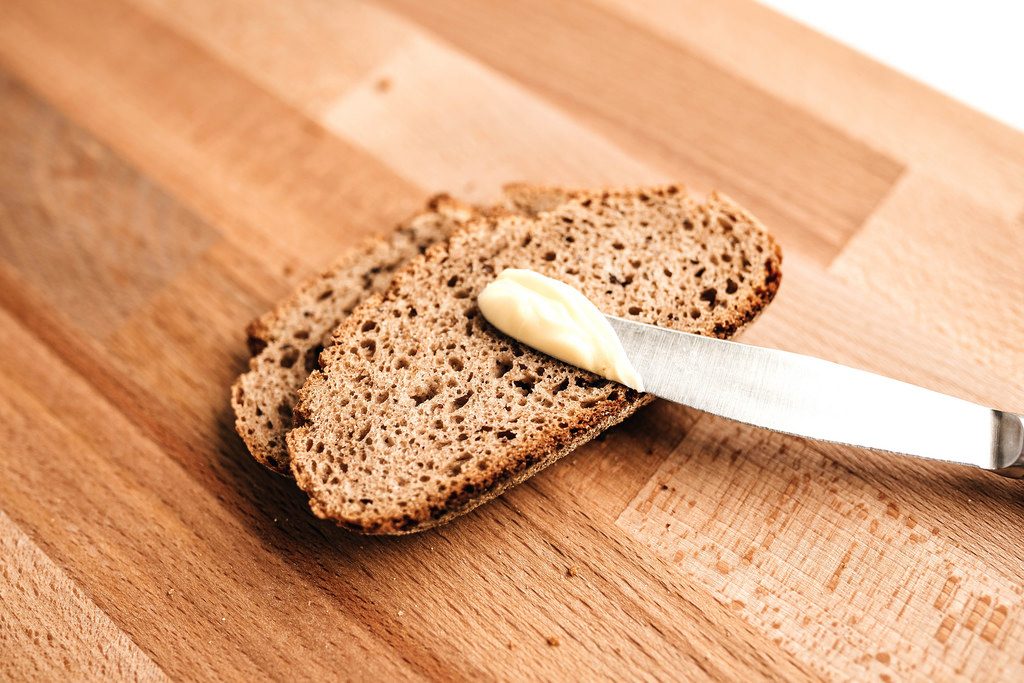slice of bread: (217, 188, 810, 552)
